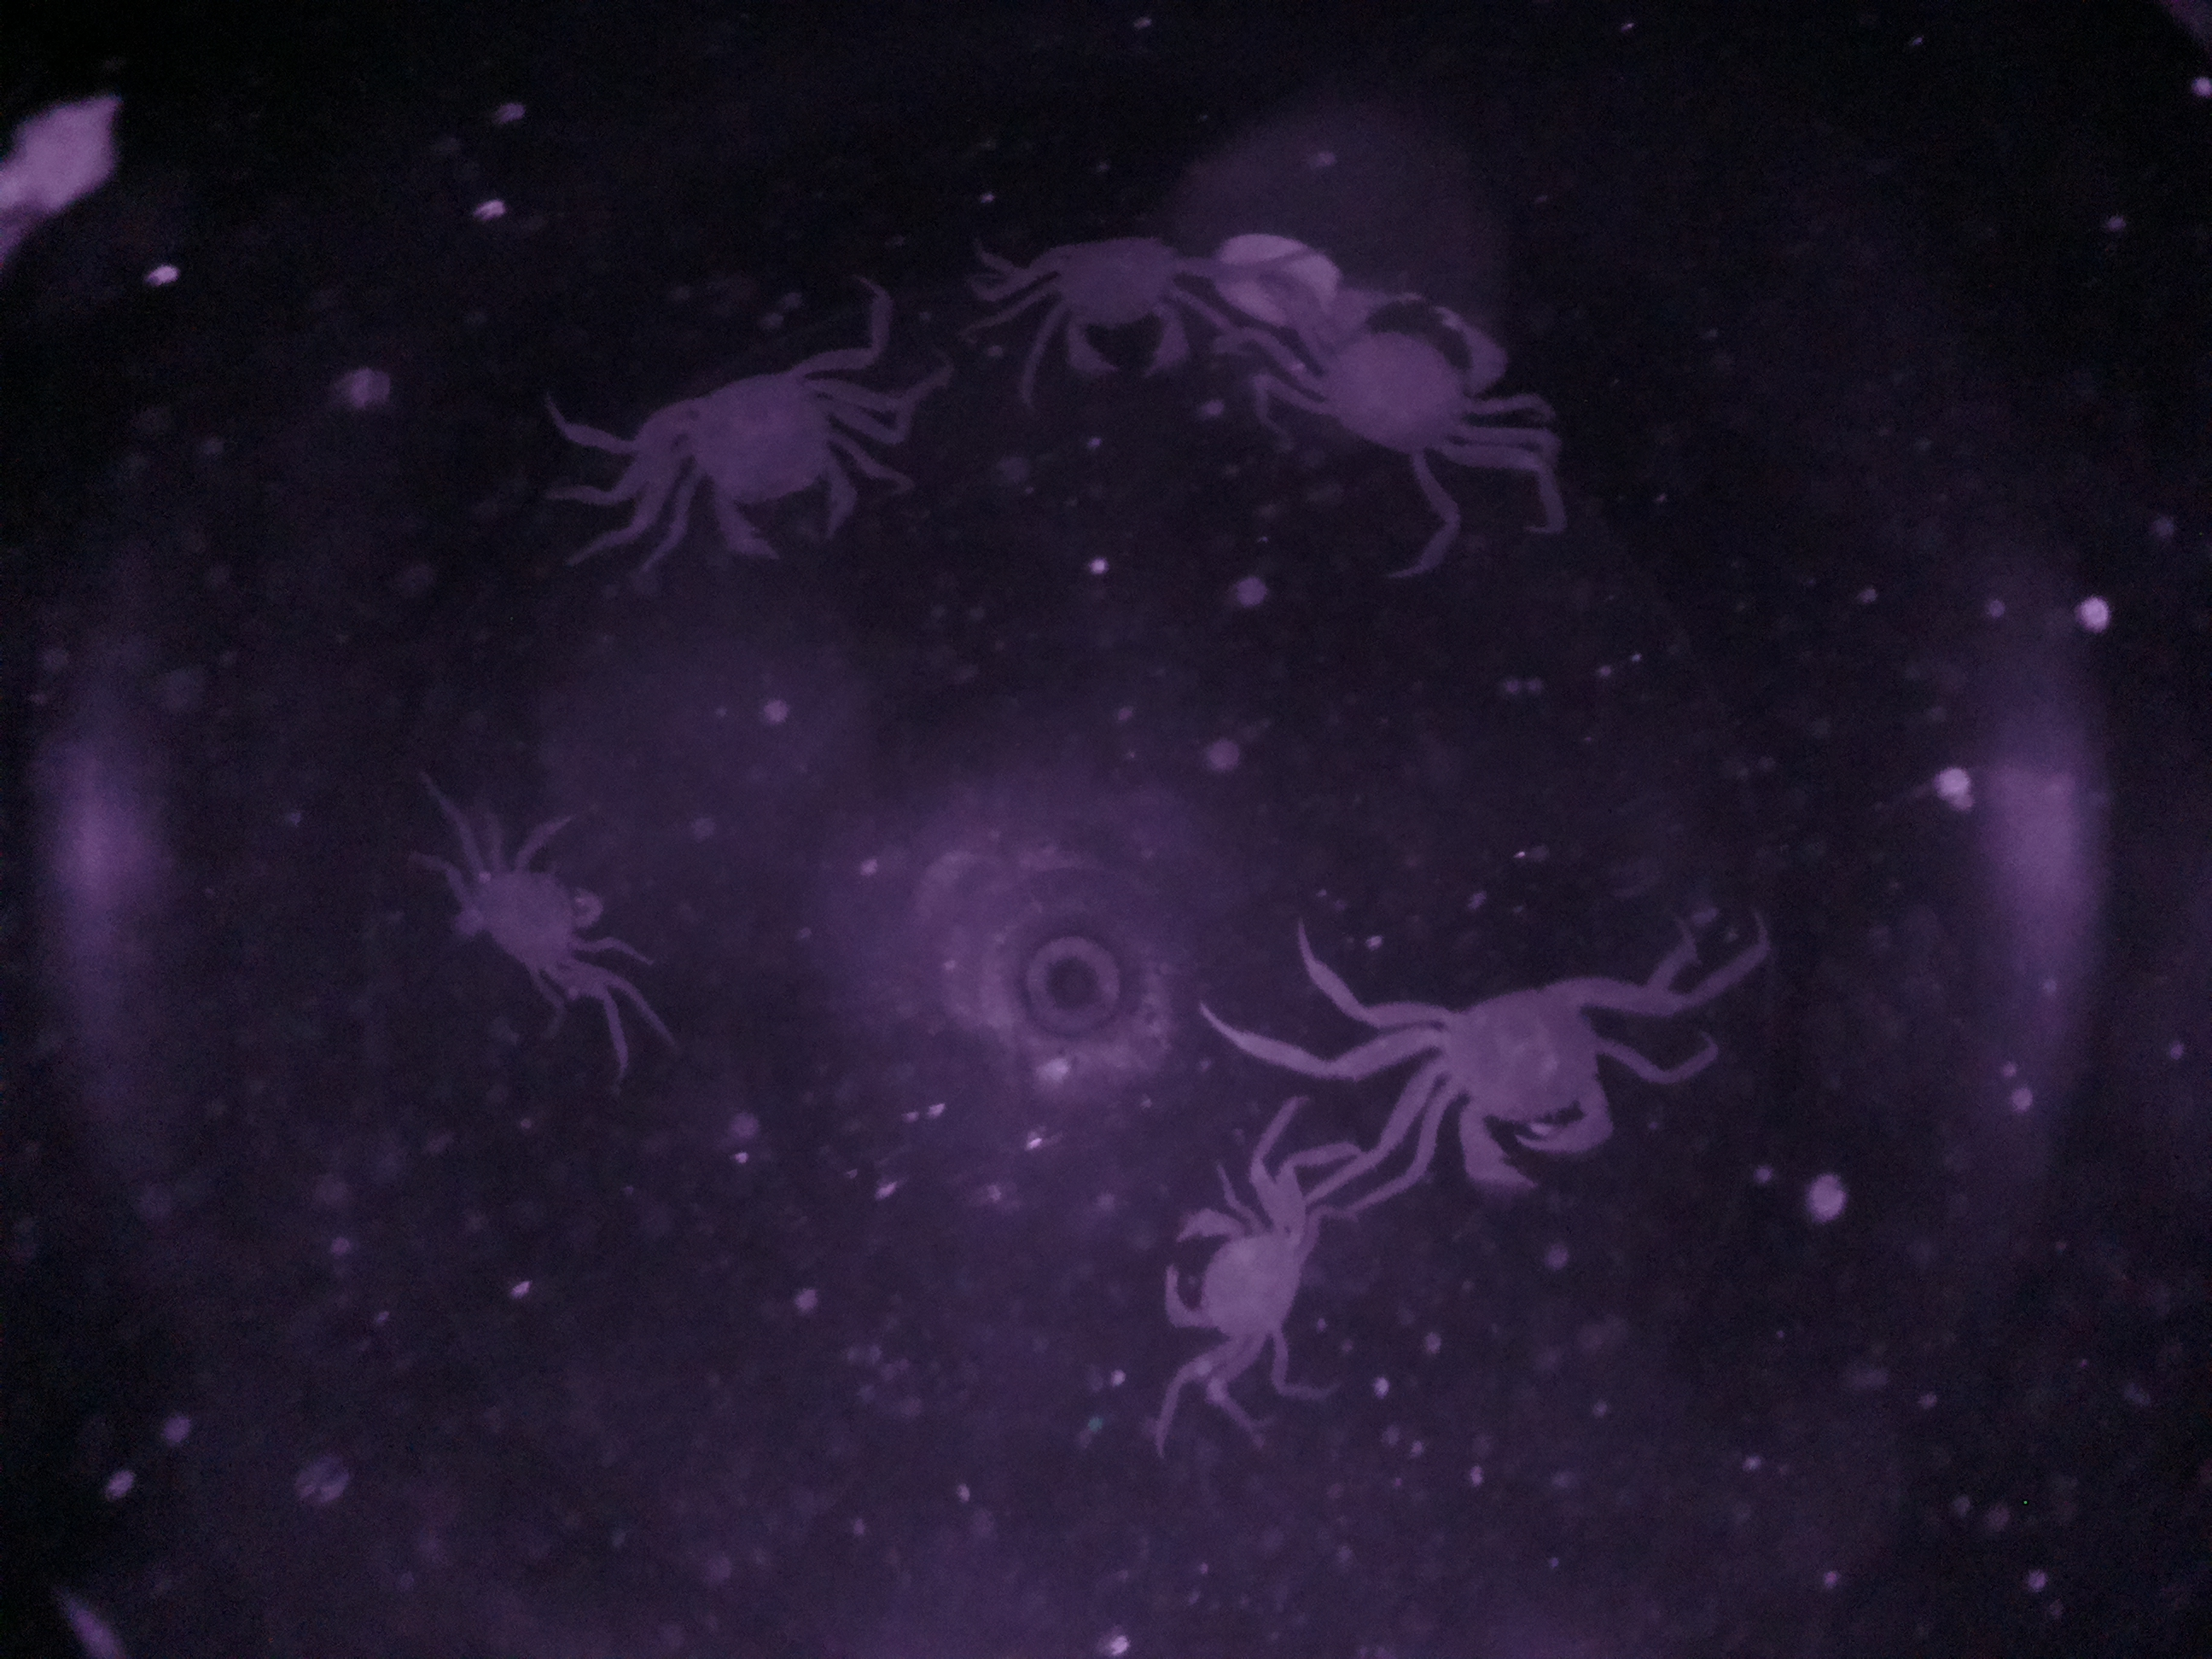Crab: (597, 328, 887, 591), (1359, 960, 1665, 1204), (1275, 272, 1531, 483), (1129, 1159, 1327, 1396), (420, 803, 637, 1019), (1000, 213, 1224, 413)
